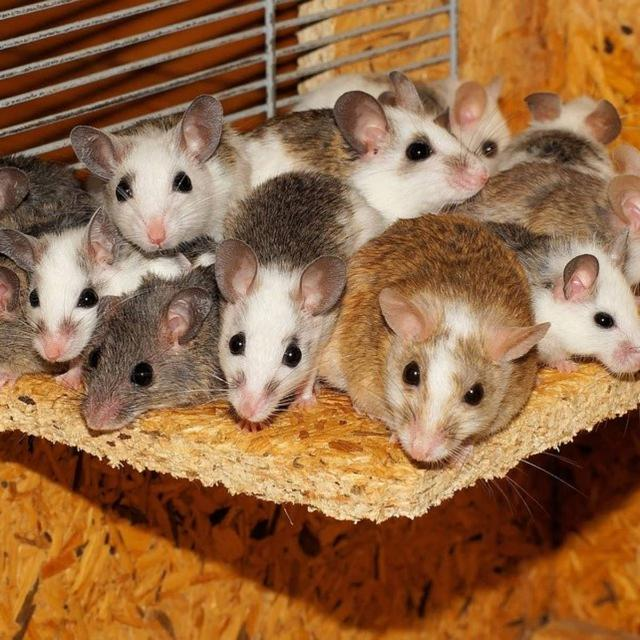rat: (306, 198, 558, 480), (239, 55, 511, 231), (197, 156, 369, 434), (62, 102, 268, 268), (67, 274, 243, 454), (1, 196, 158, 374), (496, 220, 640, 396)
